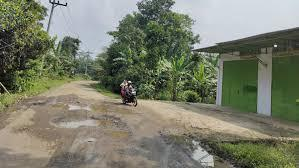Pothole: (153, 123, 251, 168), (41, 96, 134, 142), (56, 97, 132, 115), (25, 99, 46, 107)
